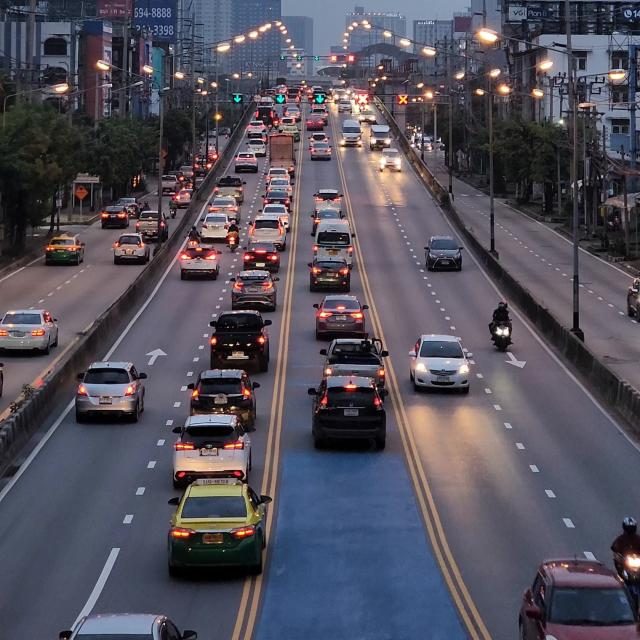Car: (160, 473, 276, 572), (307, 374, 389, 452), (172, 414, 259, 482), (72, 362, 148, 426), (411, 328, 476, 397), (188, 369, 260, 425), (0, 302, 61, 362), (213, 308, 273, 369), (309, 292, 372, 340), (326, 338, 393, 381), (231, 270, 279, 308), (424, 236, 465, 274), (184, 248, 222, 280), (113, 235, 151, 266)
